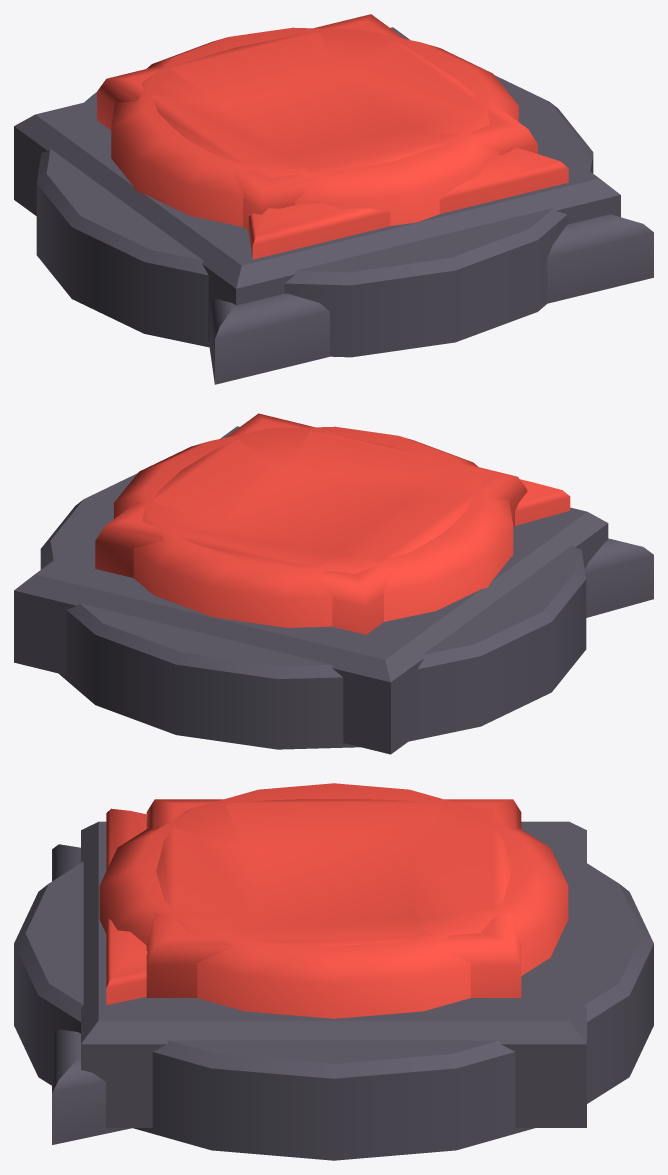
Rendered from Buttons.fbx.
3 renders of one model, top to bottom at view 1: azimuth 30°, elevation 25°; view 2: azimuth 150°, elevation 25°; view 3: azimuth 270°, elevation 25°, orthographic. The views are drawn at different scales.
Visible parts, largest first — view 1: Circ_Frame, Circ_Butt, Guade_Butt, Quade_Frame, Tri_Frame, Tri_Buttone; view 2: Circ_Frame, Circ_Butt, Quade_Frame, Guade_Butt, Tri_Frame, Tri_Buttone; view 3: Circ_Frame, Circ_Butt, Quade_Frame, Guade_Butt, Tri_Frame, Tri_Buttone.
Boxes of the visible parts, x1,y1,x2,y2 form: Circ_Frame: (36,75,593,357); Circ_Butt: (111,27,518,226); Guade_Butt: (97,14,537,230); Quade_Frame: (14,27,620,342); Tri_Frame: (209,214,653,384); Tri_Buttone: (248,147,568,259); Circ_Frame: (40,473,586,749); Circ_Butt: (113,426,513,627); Quade_Frame: (14,426,608,754); Guade_Butt: (95,413,527,634); Tri_Frame: (585,538,653,617); Tri_Buttone: (515,479,570,525); Circ_Frame: (14,861,653,1160); Circ_Butt: (99,783,568,1018); Quade_Frame: (81,821,586,1127); Guade_Butt: (146,799,521,997); Tri_Frame: (52,844,132,1144); Tri_Buttone: (106,808,147,1004).
Bounding box in the file's own units: 34.28 × 9.47 × 34.28.
